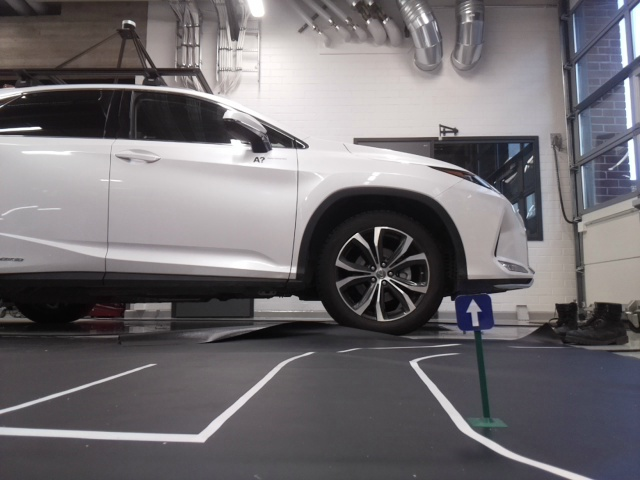OneWay: (454, 294, 492, 328)
